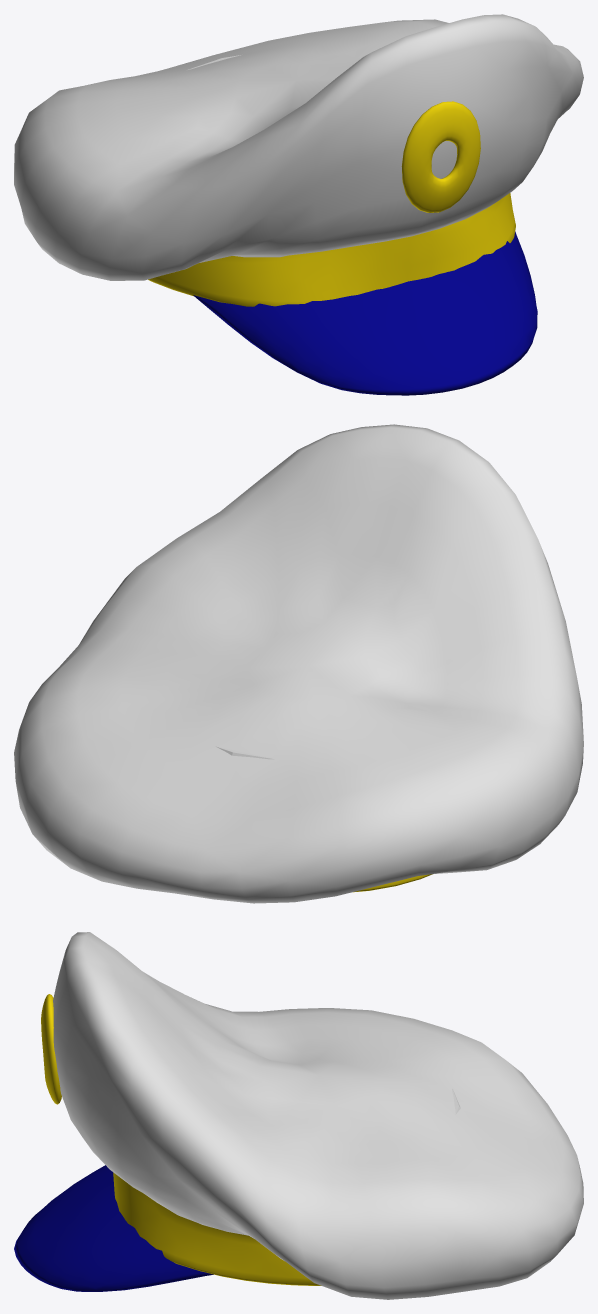
The model's file is sombrero.fbx.
The picture shows the model from 3 angles, top to bottom: view 1: azimuth 30°, elevation 25°; view 2: azimuth 150°, elevation 25°; view 3: azimuth 270°, elevation 25°; orthographic projection. The views are drawn at different scales.
Visible parts, largest first — view 1: sombreromarinero:hat_obj:object2, sombreromarinero:hat_obj:object5, sombreromarinero:hat_obj:object4, sombreromarinero:hat_obj:object0; view 2: sombreromarinero:hat_obj:object2; view 3: sombreromarinero:hat_obj:object2, sombreromarinero:hat_obj:object5, sombreromarinero:hat_obj:object4, sombreromarinero:hat_obj:object0.
Boxes of the visible parts, box(x1,y1,x2,y2) form: sombreromarinero:hat_obj:object2: box(14, 14, 583, 280); sombreromarinero:hat_obj:object5: box(193, 231, 537, 395); sombreromarinero:hat_obj:object4: box(148, 193, 515, 306); sombreromarinero:hat_obj:object0: box(401, 101, 480, 212); sombreromarinero:hat_obj:object2: box(14, 424, 583, 903); sombreromarinero:hat_obj:object2: box(53, 932, 583, 1299); sombreromarinero:hat_obj:object5: box(14, 1165, 213, 1291); sombreromarinero:hat_obj:object4: box(113, 1172, 321, 1285); sombreromarinero:hat_obj:object0: box(41, 994, 61, 1104).
Bounding box in the file's own units: 4.34 × 2.73 × 4.59.
